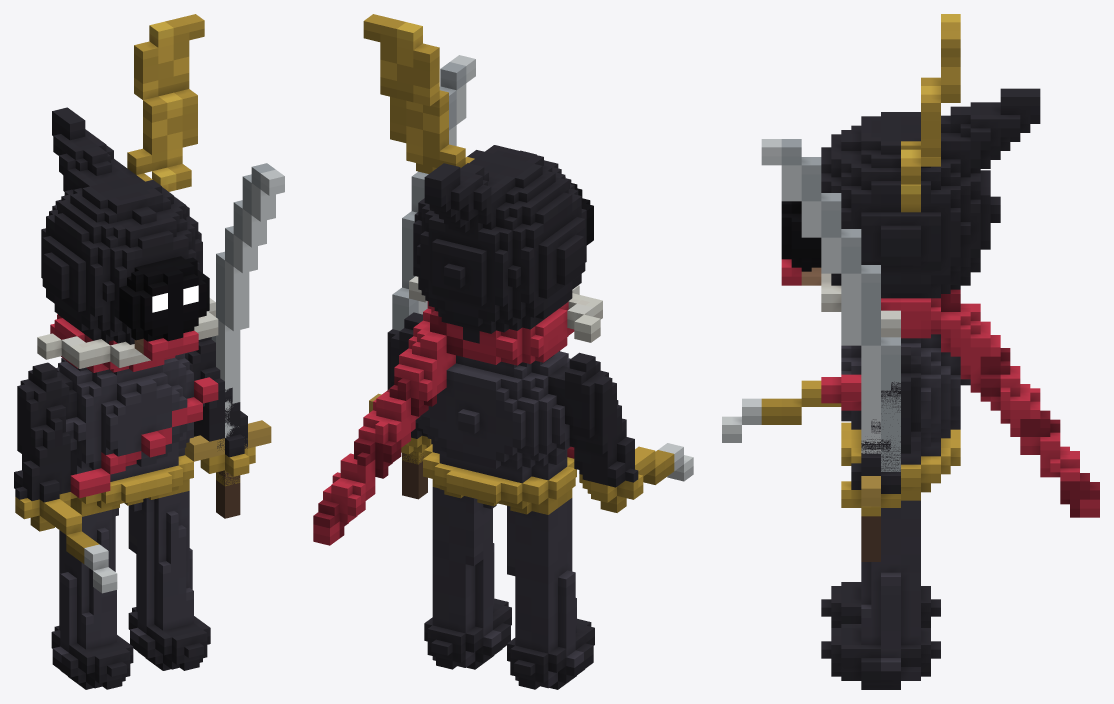
File: u_lame__trappeur.glb
3 renders of one model, left to right at view 1: azimuth 30°, elevation 25°; view 2: azimuth 150°, elevation 25°; view 3: azimuth 270°, elevation 25°, orthographic. The views are drawn at different scales.
Visible parts, largest first — view 1: lame_body, lame_weapon, lame_glow; view 2: lame_body, lame_weapon; view 3: lame_body, lame_weapon.
Boxes of the visible parts, x1=… form: lame_body: x1=14, y1=14, x2=255, y2=689; lame_weapon: x1=185, y1=163, x2=284, y2=518; lame_glow: x1=152, y1=285, x2=198, y2=312; lame_body: x1=313, y1=14, x2=693, y2=689; lame_weapon: x1=369, y1=55, x2=475, y2=499; lame_body: x1=722, y1=14, x2=1099, y2=689; lame_weapon: x1=761, y1=139, x2=900, y2=561.
Bounding box in the file's own units: 0.8 × 1.87 × 0.95.
